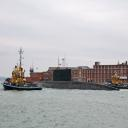submarine: (33, 71, 123, 92)
